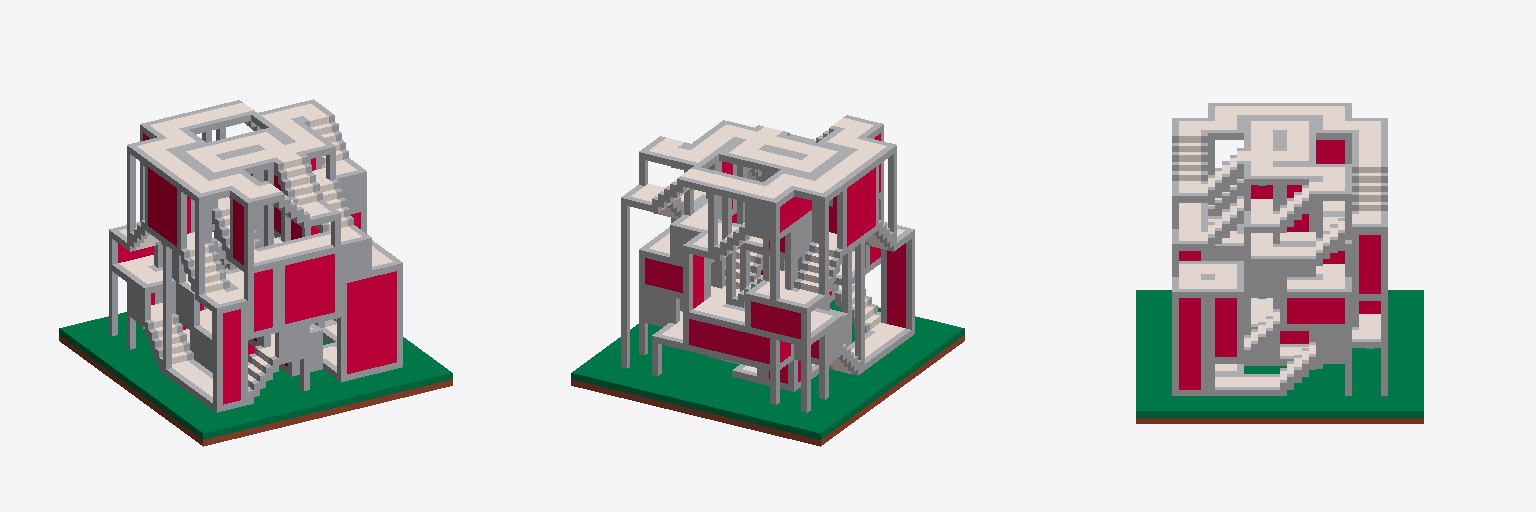
3 renders of one model, left to right at view 1: azimuth 30°, elevation 25°; view 2: azimuth 150°, elevation 25°; view 3: azimuth 270°, elevation 25°, orthographic.
Visible parts, largest first — view 1: object 1; view 2: object 1; view 3: object 1.
Boxes of the visible parts, box(x1,y1,x2,y2) form: object 1: box(59, 99, 452, 446); object 1: box(571, 115, 964, 446); object 1: box(1136, 103, 1423, 423).
Bounding box in the file's own units: 4 × 3.3 × 4.
1 materials, 1 textured.